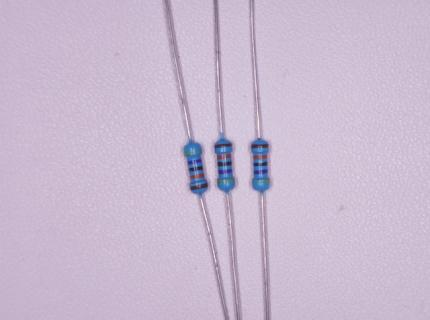Black band: (188, 165, 203, 172), (217, 162, 232, 167), (254, 162, 268, 167)
Brown band: (190, 182, 208, 190), (214, 143, 233, 148), (251, 144, 269, 149)
Orange band: (190, 173, 204, 181), (217, 153, 232, 159), (253, 155, 267, 159)
Violet band: (187, 158, 202, 165), (254, 169, 268, 175), (218, 169, 232, 175)
Yellow band: (183, 149, 202, 155), (217, 178, 235, 184), (252, 178, 269, 184)
